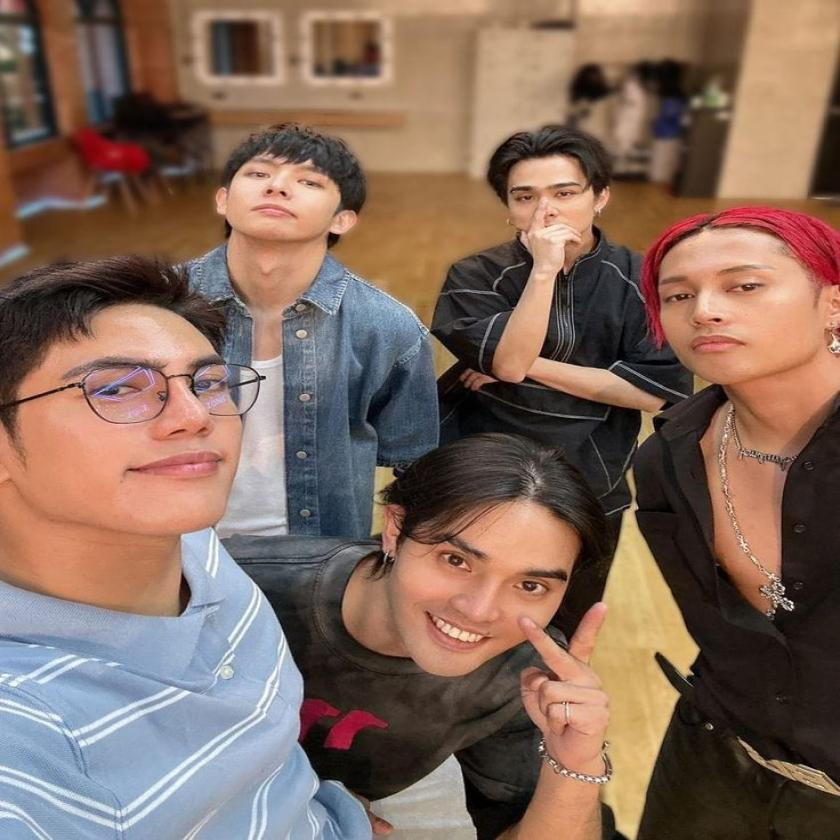Sin_casco: (0, 254, 261, 572), (383, 429, 612, 690), (636, 204, 840, 393), (209, 119, 367, 280), (478, 122, 623, 262)
